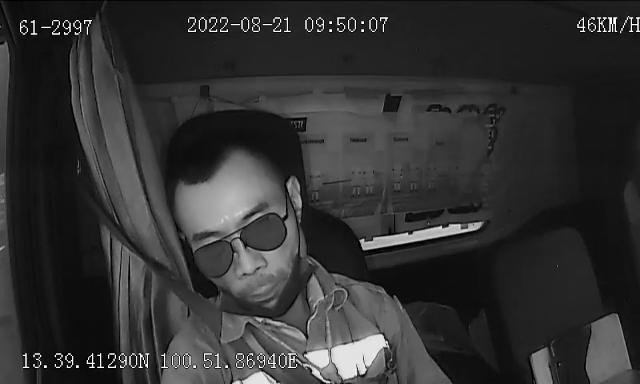SafeDriving: (416, 96, 460, 119)
Seatbelt: (131, 246, 327, 384)
